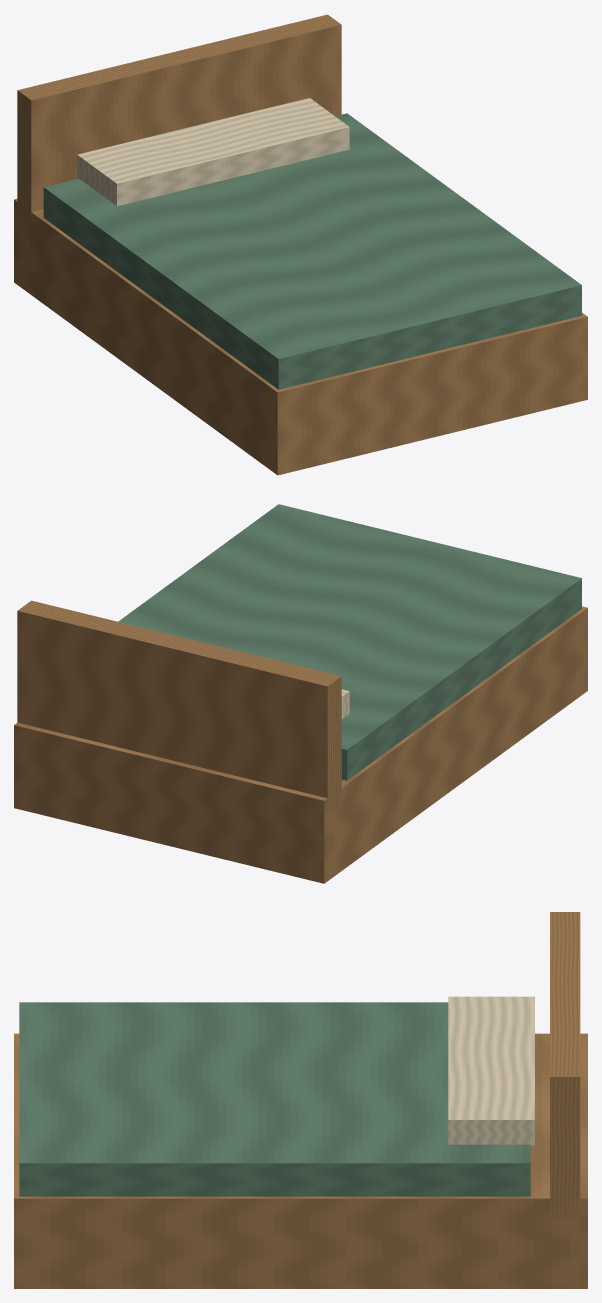
3 views of the same model, one above another, from view 1: azimuth 30°, elevation 25°; view 2: azimuth 150°, elevation 25°; view 3: azimuth 270°, elevation 25° (orthographic). The views are drawn at different scales.
Visible parts, largest first — view 1: Hagrids breites Hüttenbett; view 2: Hagrids breites Hüttenbett; view 3: Hagrids breites Hüttenbett.
Boxes of the visible parts, <box> form: Hagrids breites Hüttenbett: <box>14,14,587,475</box>; Hagrids breites Hüttenbett: <box>14,504,587,883</box>; Hagrids breites Hüttenbett: <box>14,912,587,1288</box>.
Size of the model in its own units: 1.8 by 1.08 by 2.65.
Materials: 3 (3 with a texture image).
